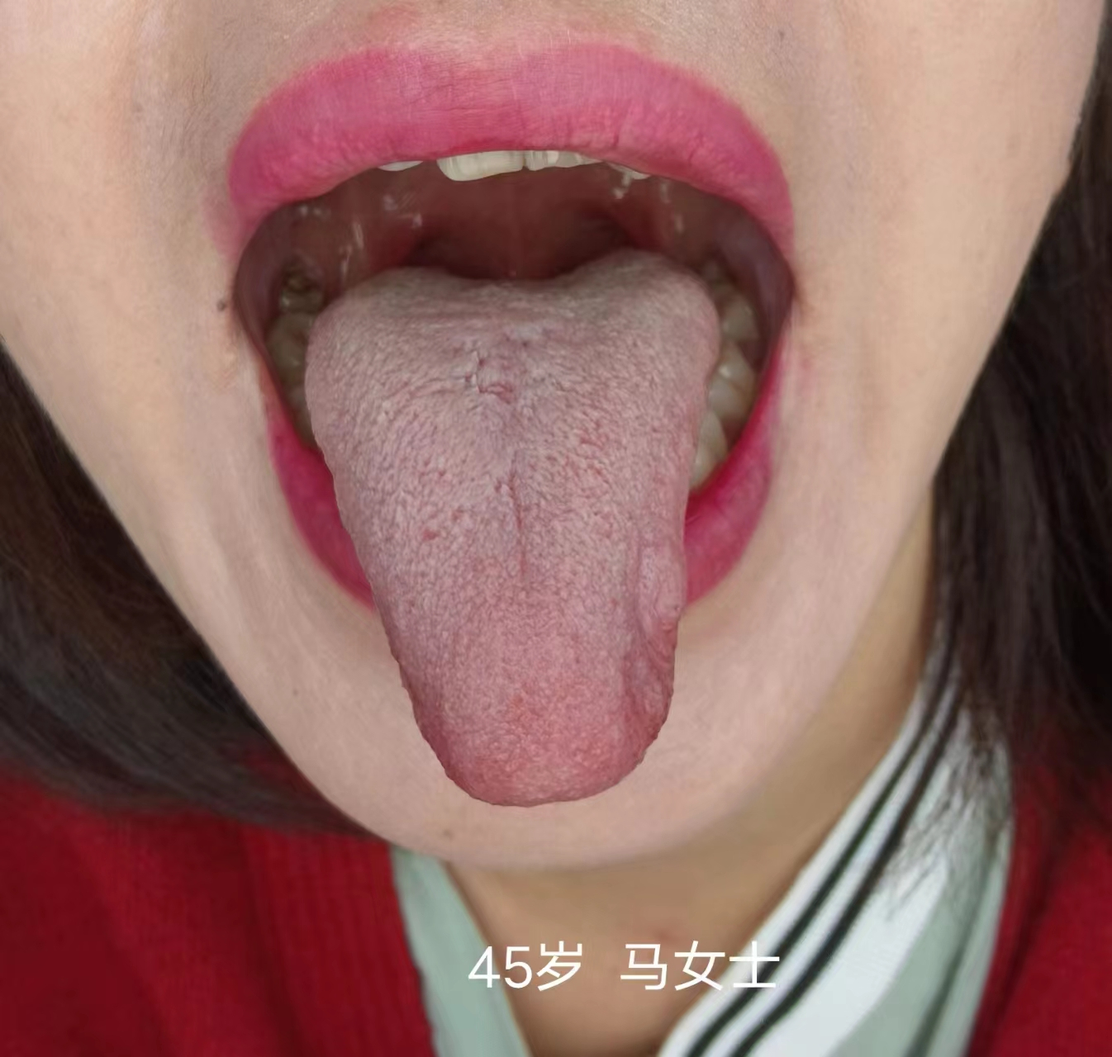baitaishe: (306, 247, 723, 808)
shoushe: (305, 246, 722, 807)
